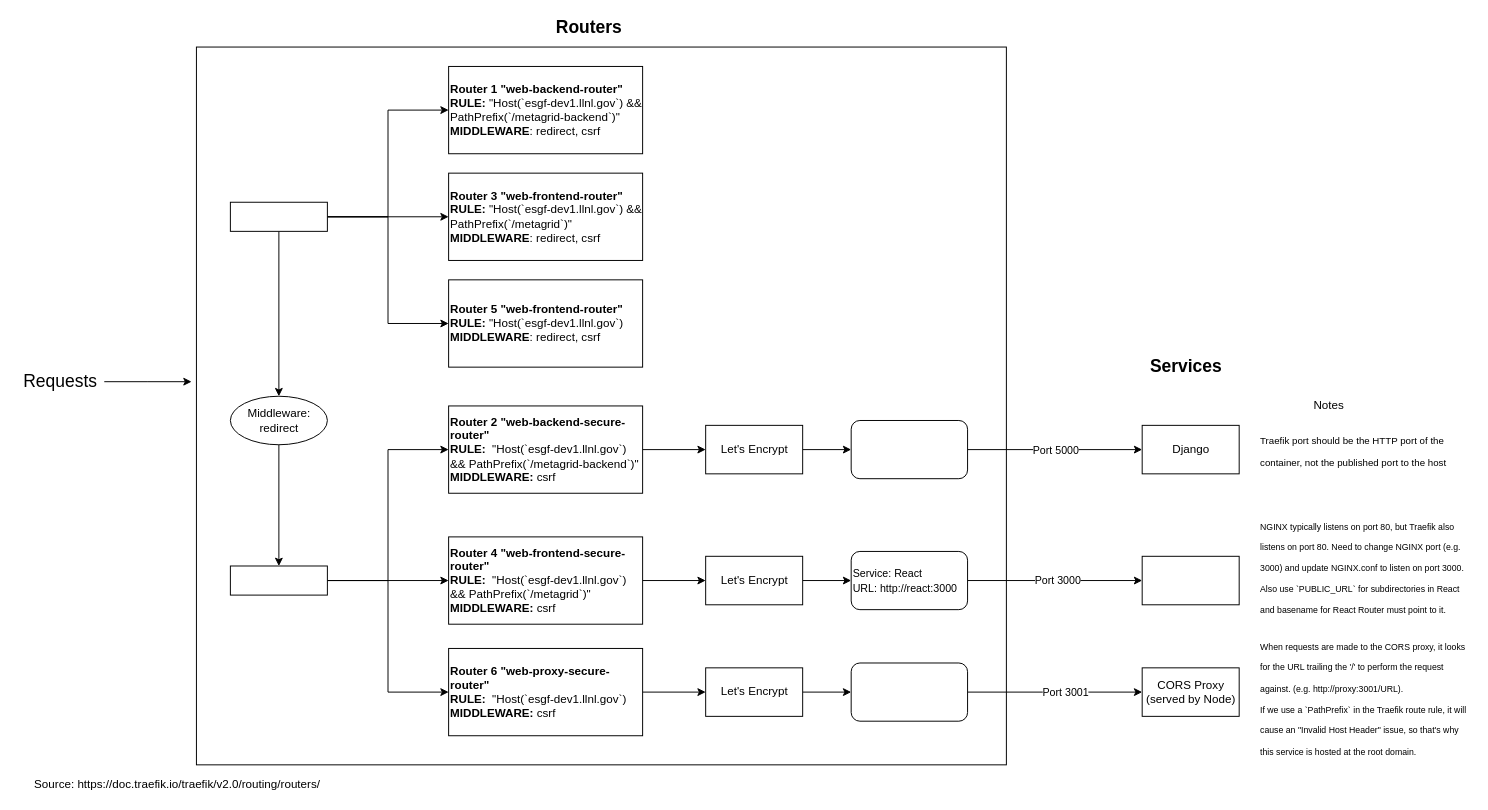
Image size: 1488x810. Some labels were removed from this diagram. Here are the shapes that lost their labels. From the top down, the centre of each, then its label:
At (278,216): "ENTRYPOINT 1 :80 (HTTP)".
At (909,449): "Service: Django URL: http://django:5000".
At (278,580): "ENTRYPOINT 2 :443 (HTTPS)".
At (1190,580): "React (served by NGINX)".
At (909,691): "Service: CORS Proxy URL: http://proxy:3001".
